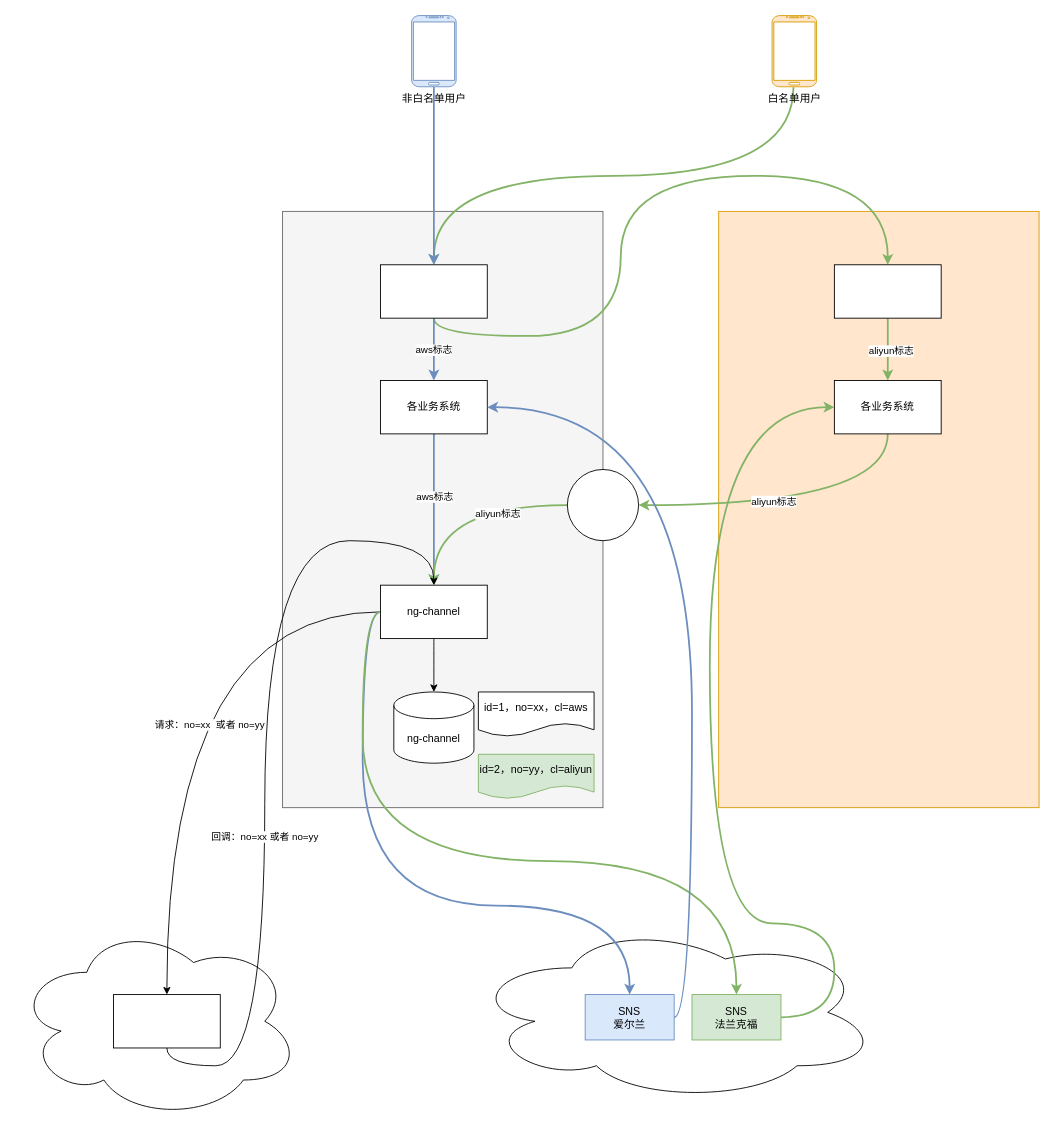
Image size: 1055x1135. Some labels were removed from this diagram. The box of each missing label's shape, as (x1, y1, x2, y2) in pixels:
mgw-core 会员白名单: (380, 264, 487, 318)
mgw-core 无白名单: (833, 264, 941, 318)
Nibss: (113, 994, 220, 1048)
prc网关 ng+consul: (566, 469, 639, 541)
